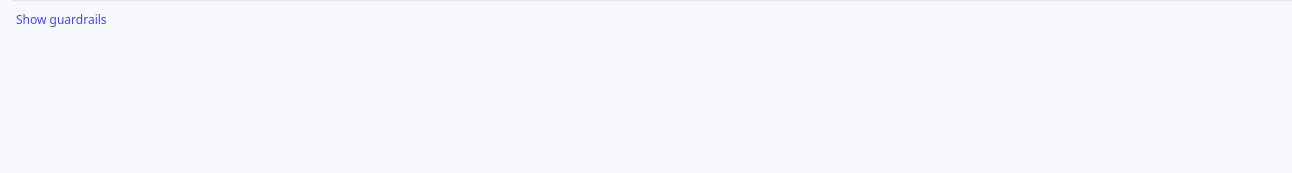
GuardrailsPanel › strips citation codes from unsupported claims
What coordinates should you click on to do the following:
click the button "Show guardrails"
I would click on:
 (61, 20)
Its box is [12, 10, 111, 30].
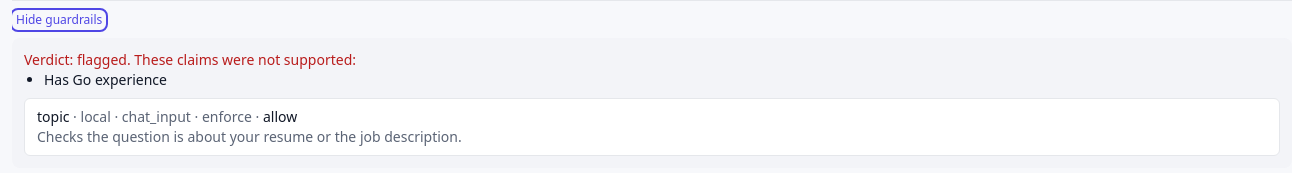
Expected: the list item "Has Go experience" is shown, [44, 70, 167, 89]
